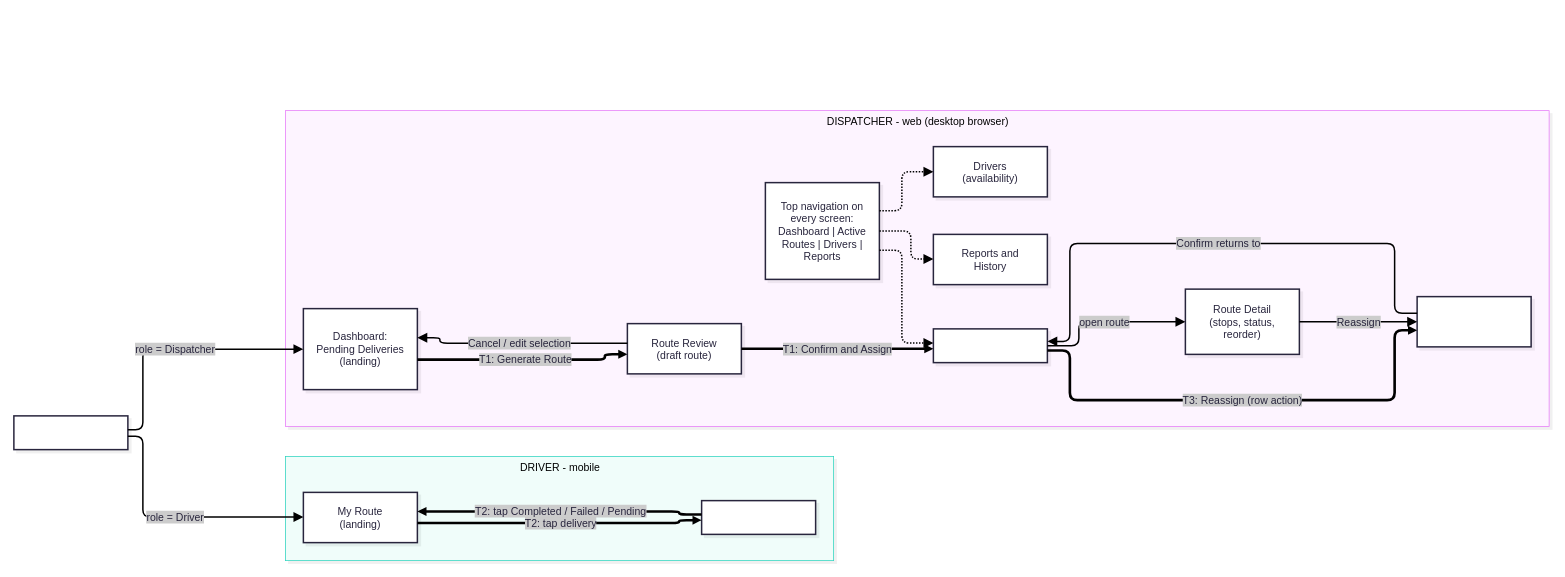
Image size: 1565x577. Some labels were removed from this diagram. The centre of each missing label's shape, as x and y in pixels:
"Active Routes" belongs at point 991,347.
"Delivery Detail" belongs at point 759,519.
"Login" belongs at point 72,434.
"Reassign Driver (dialog)" belongs at point 1475,323.
